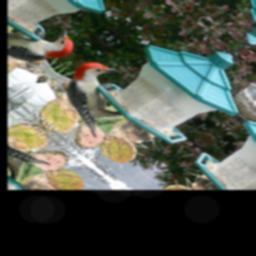Woodpecker: (37, 53, 160, 138)
